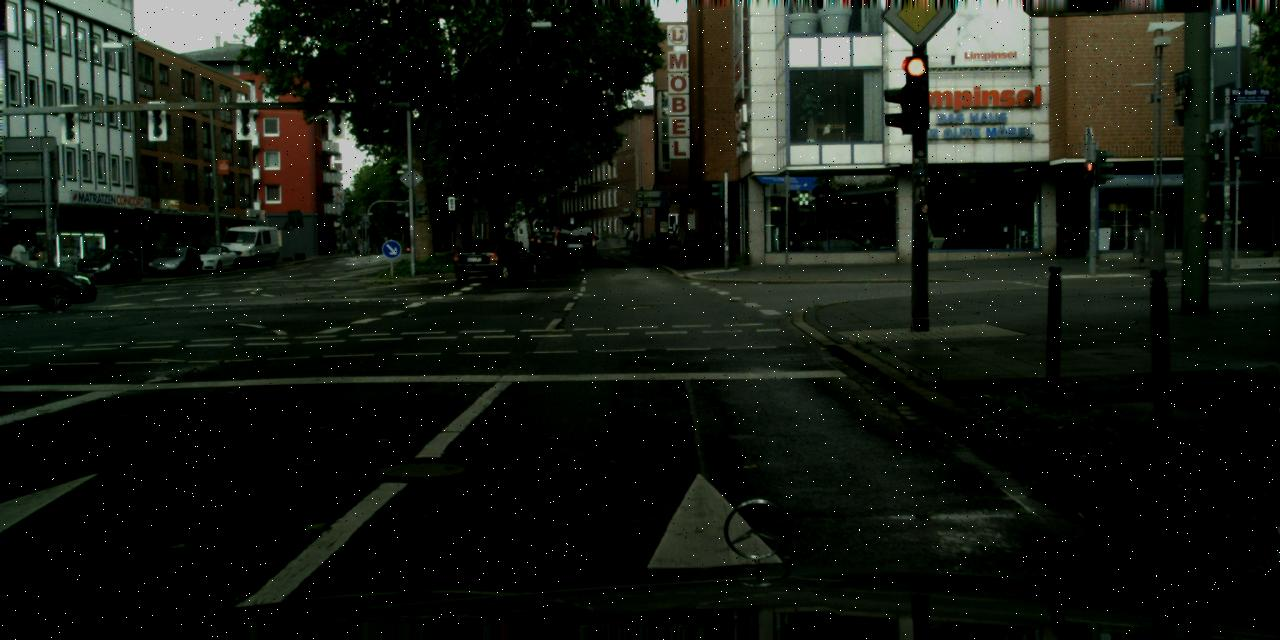ped: (10, 240, 26, 278), (22, 238, 37, 278), (32, 245, 45, 278), (90, 242, 102, 272), (626, 226, 636, 253), (624, 230, 630, 246)
